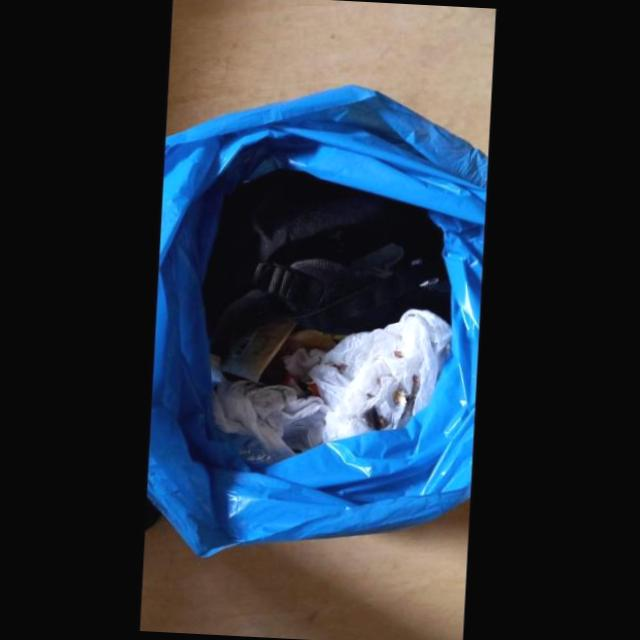bao_bi_thuc_pham: (222, 323, 297, 382)
tui_ni_long: (309, 309, 453, 443)
